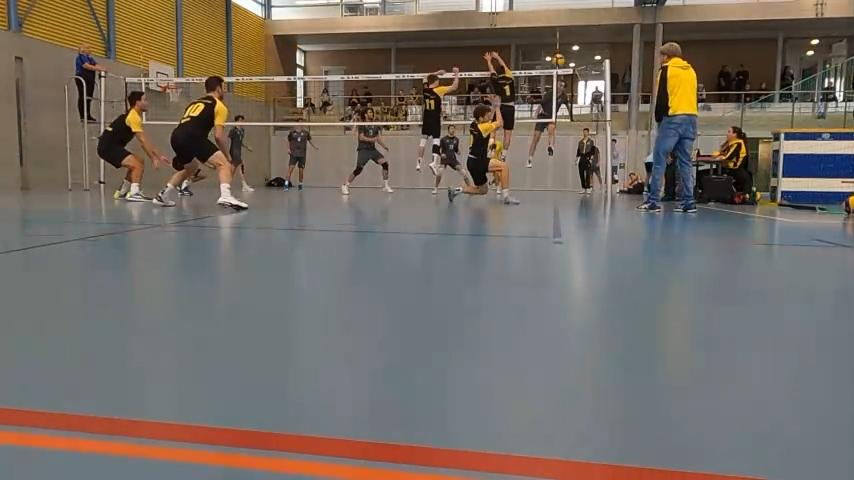Attack: (523, 61, 573, 166)
Block: (413, 65, 462, 171), (479, 49, 516, 161)
Player: (154, 76, 247, 209), (97, 91, 167, 201), (448, 105, 518, 204), (341, 125, 392, 194), (432, 125, 470, 194), (284, 124, 317, 191), (228, 115, 253, 191), (177, 168, 206, 195), (489, 132, 503, 159)
ball: (550, 53, 565, 66)
